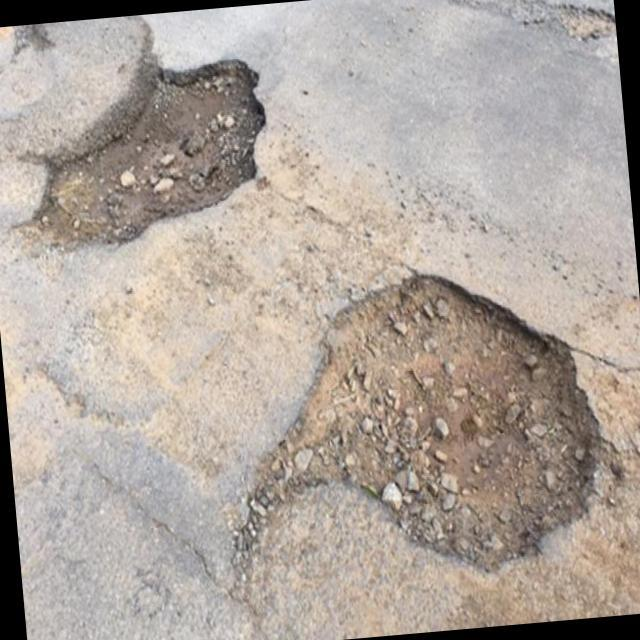Pothole: (229, 236, 599, 587), (22, 62, 261, 254)
